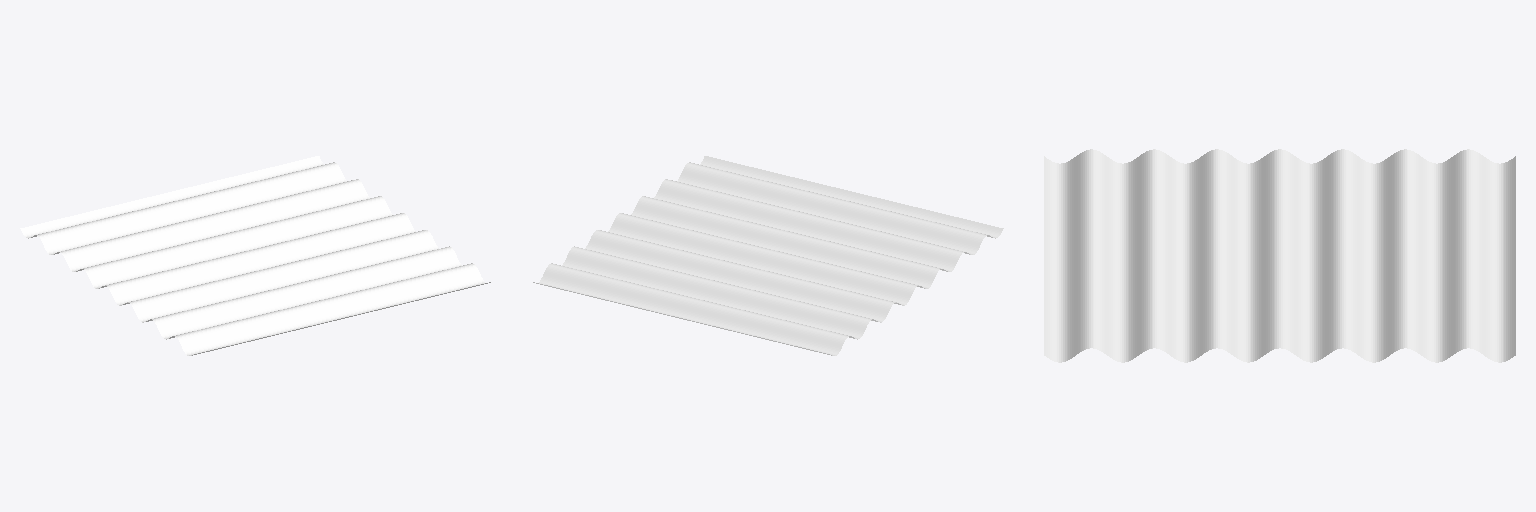
The robot description file, URDF, robot "undulating_a075_w3":
<?xml version="1.0" ?>
<robot name="undulating_a075_w3">
  <link concave="yes" name="undulatingLink">
  <contact>
      <lateral_friction value="2"/>
  </contact>
    <inertial>
      <origin rpy="0 0 0" xyz="0 0 0"/>
       <mass value=".0"/>
       <inertia ixx="0" ixy="0" ixz="0" iyy="0" iyz="0" izz="0"/>
    </inertial>
    <visual>
      <origin rpy="0 0 0" xyz="0 0 0"/>
      <geometry>
		    <mesh filename="package://snakelib_terrain/meshes/undulating_a025_w2.obj" scale="1 1 1"/>
      </geometry>
       <material name="white">
        <color rgba="1 1 1 1"/>
      </material>
    </visual>
    <collision concave="yes">
      <origin rpy="0 0 0" xyz="0 0 0"/>
      <geometry>
	 	    <mesh filename="package://snakelib_terrain/meshes/undulating_a025_w2.obj" scale="1 1 1"/>
      </geometry>
    </collision>
  </link>
</robot>
<!--- Undulating terrain with amplitude 0.25 meters and wavelength of 2 meters -->

--- Facts derived from the render (not from the file) ---
Views: 3 orthographic renders of the robot side by side, from view 1: azimuth 30°, elevation 25°; view 2: azimuth 150°, elevation 25°; view 3: azimuth 270°, elevation 25°.
Robot: undulating_a075_w3 — 1 links, 0 joints (none); root link undulatingLink; default pose: every joint at zero.
Links seen in each view (by area): view 1: undulatingLink; view 2: undulatingLink; view 3: undulatingLink.
Boxes of the visible links, <box> form: undulatingLink: <box>20,156,490,355</box>; undulatingLink: <box>533,156,1003,355</box>; undulatingLink: <box>1044,149,1515,362</box>.
Size in the robot's own frame: 15 by 15 by 0.4979 metres.
1 mesh visuals loaded from 1 distinct referenced files (1 OBJ).